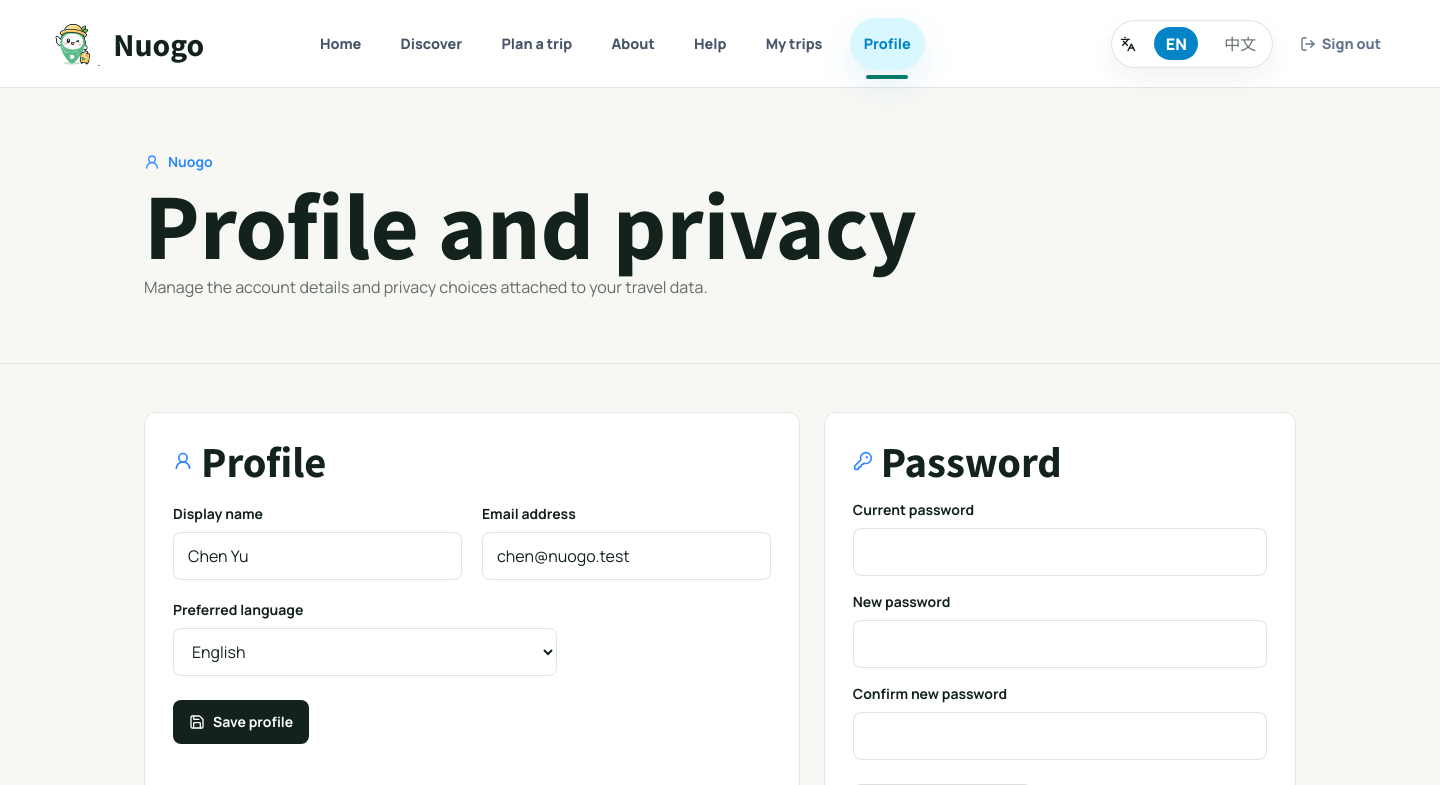
Test: ProfilePage › marks the invalid profile field, describes the error, and focuses it
Expected: the heading "Profile and privacy" is shown, [144,163,917,283]
Clear the field labelled "Display name" at coordinates (317, 556), box [173,532,462,580]
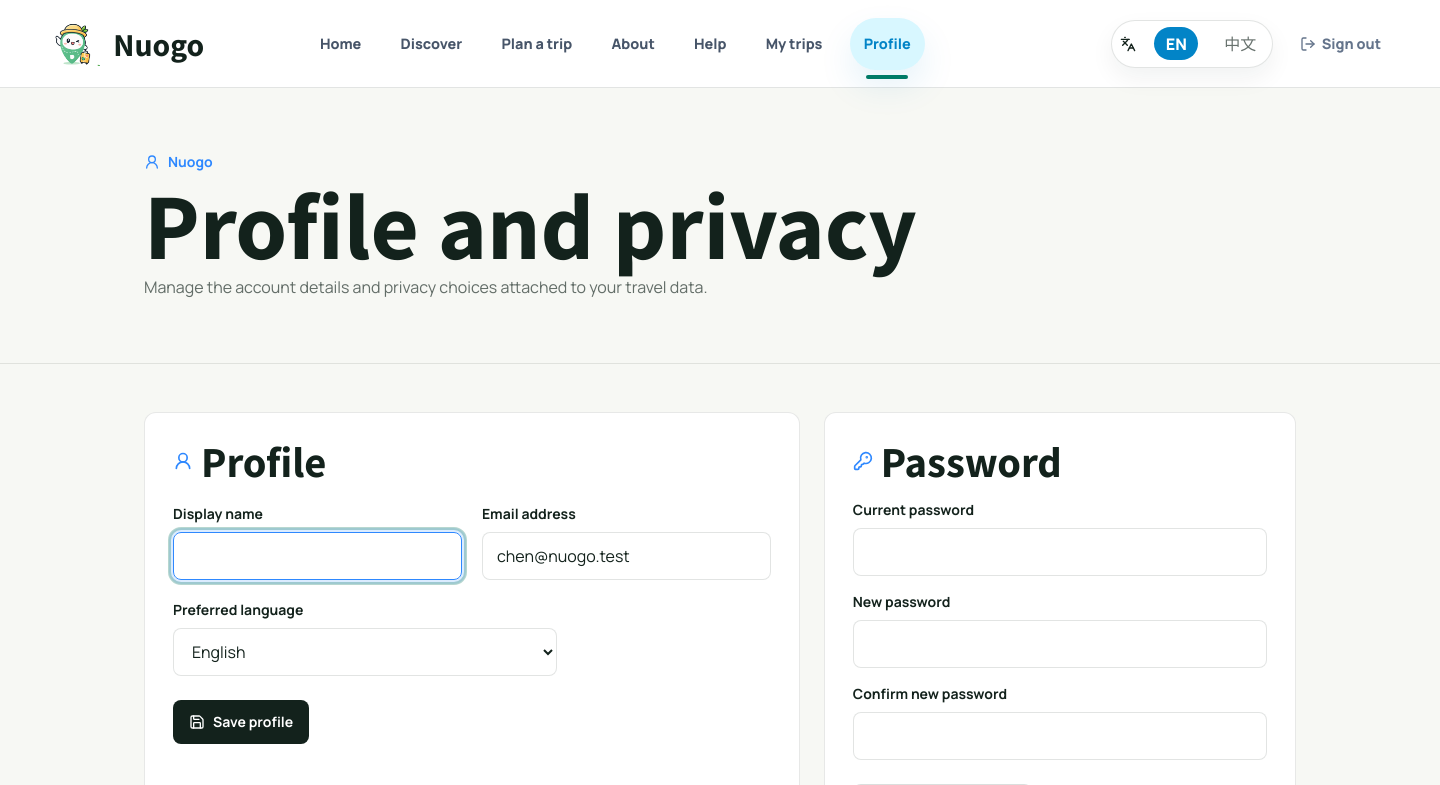
Click the button "Save profile".
click(241, 722)  # box [173,700,309,744]
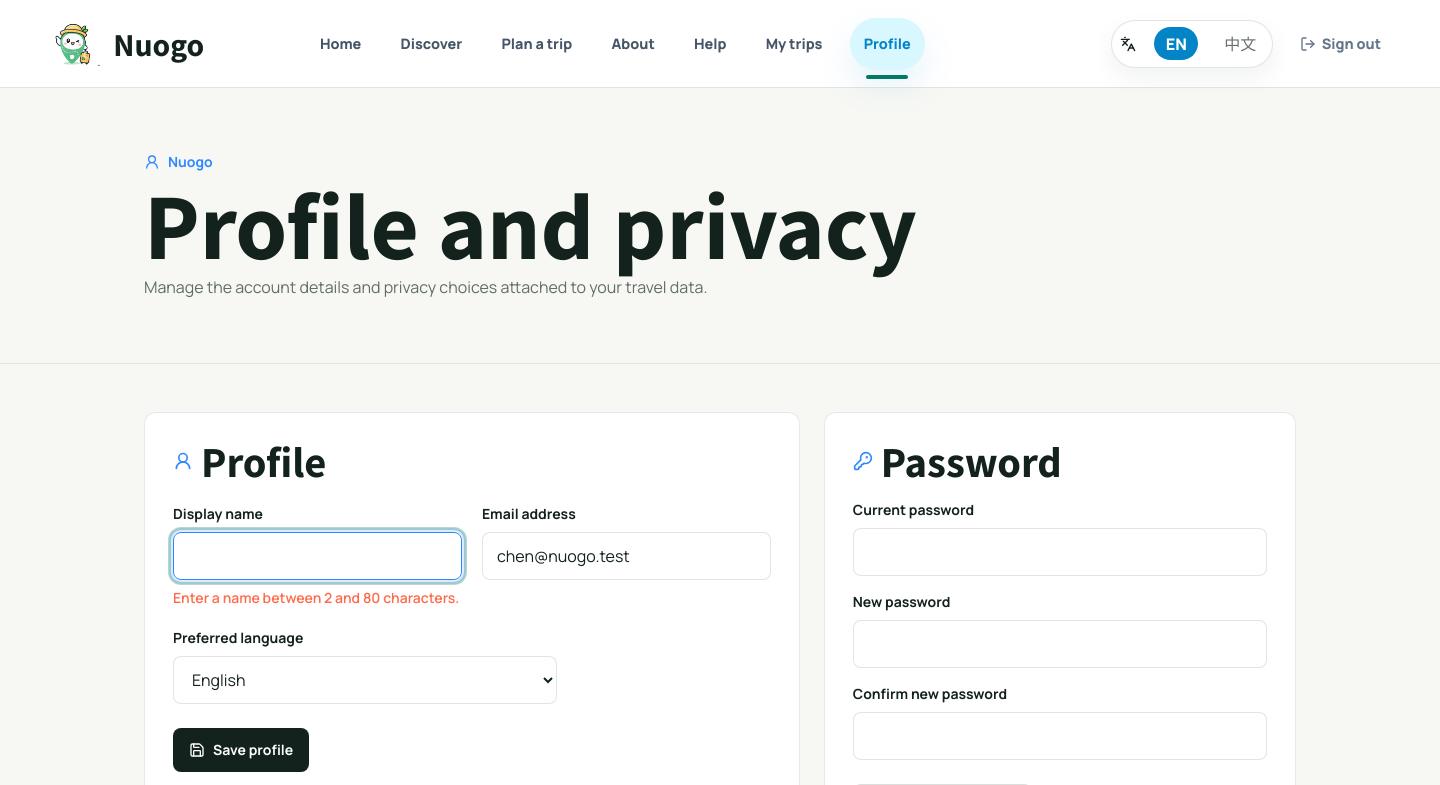
Expected: the message reads "Enter a name between 2 and 80 characters.", [173,588,459,607]
